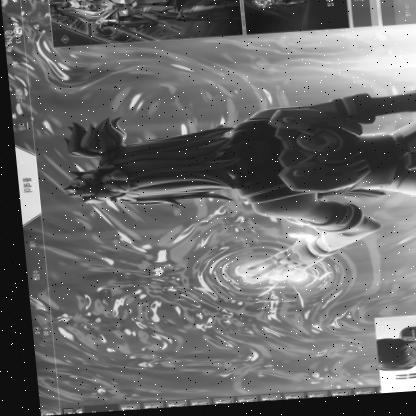streamer: (367, 319, 416, 398)
